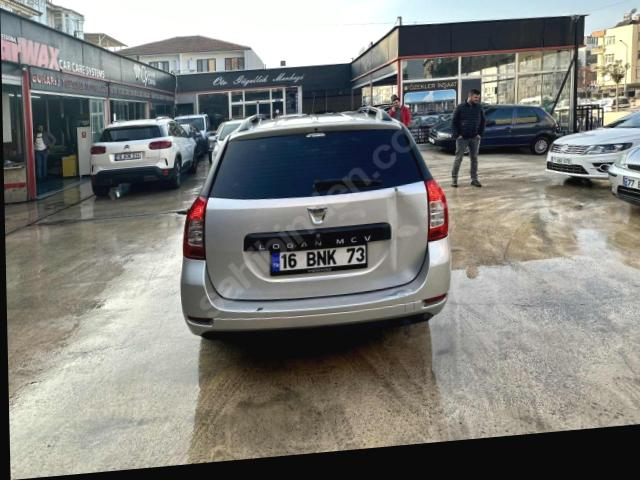plaka: (270, 245, 367, 276)
